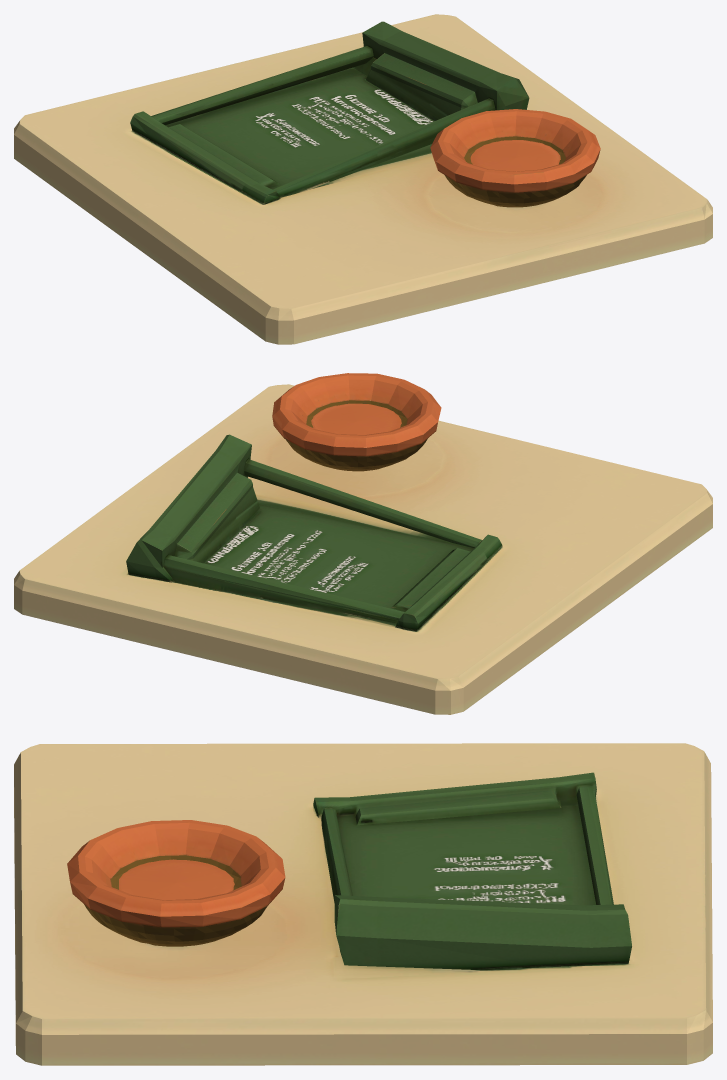
3 views of the same model, one above another, from view 1: azimuth 30°, elevation 25°; view 2: azimuth 150°, elevation 25°; view 3: azimuth 270°, elevation 25° (orthographic). The views are drawn at different scales.
Parts seen in each view (by area): view 1: tripo_mesh_ee23c62e-f5ca-43c6-a85d-ece804f74209; view 2: tripo_mesh_ee23c62e-f5ca-43c6-a85d-ece804f74209; view 3: tripo_mesh_ee23c62e-f5ca-43c6-a85d-ece804f74209.
Part boxes in pixels (bbox=[...]): tripo_mesh_ee23c62e-f5ca-43c6-a85d-ece804f74209: bbox=[14, 14, 712, 344]; tripo_mesh_ee23c62e-f5ca-43c6-a85d-ece804f74209: bbox=[14, 373, 712, 714]; tripo_mesh_ee23c62e-f5ca-43c6-a85d-ece804f74209: bbox=[14, 743, 712, 1065].
Size of the model in its own units: 0.9572 by 0.1815 by 1.
1 material, 1 textured.
